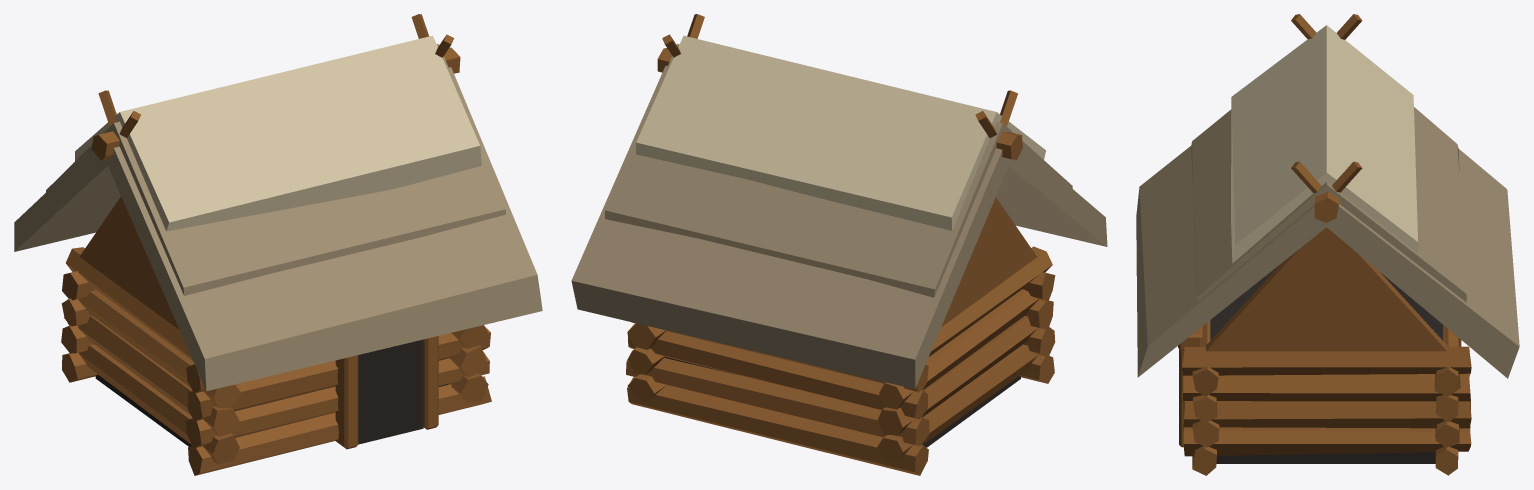
The model's file is hut.glb.
3 views of the same model, side by side, from view 1: azimuth 30°, elevation 25°; view 2: azimuth 150°, elevation 25°; view 3: azimuth 270°, elevation 25° (orthographic). The views are drawn at different scales.
Visible parts, largest first — view 1: hut; view 2: hut; view 3: hut.
Part boxes in pixels (x1,y1,x2,y2): hut: [14, 14, 542, 475]; hut: [571, 14, 1107, 475]; hut: [1136, 14, 1519, 475].
Bounding box in the file's own units: 0.8868 × 0.7909 × 0.857.
